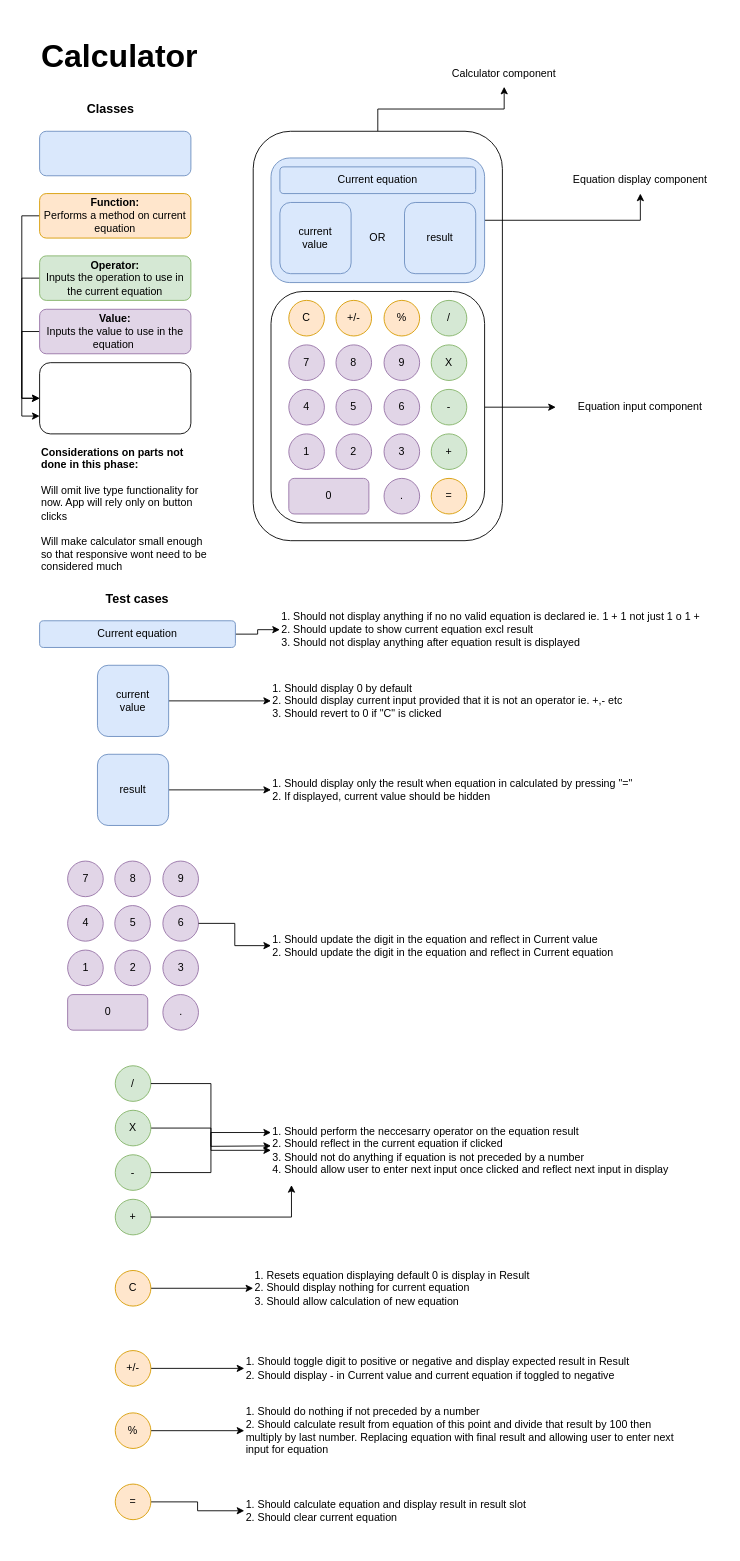
Image size: 740x1561. Some labels were removed from this diagram. Each missing label, with the centre of its shape:
"base button inputs: color, size Output: { type, value }" goes at point 115,398.
"Display Displays the current equation or value" goes at point 115,153.
